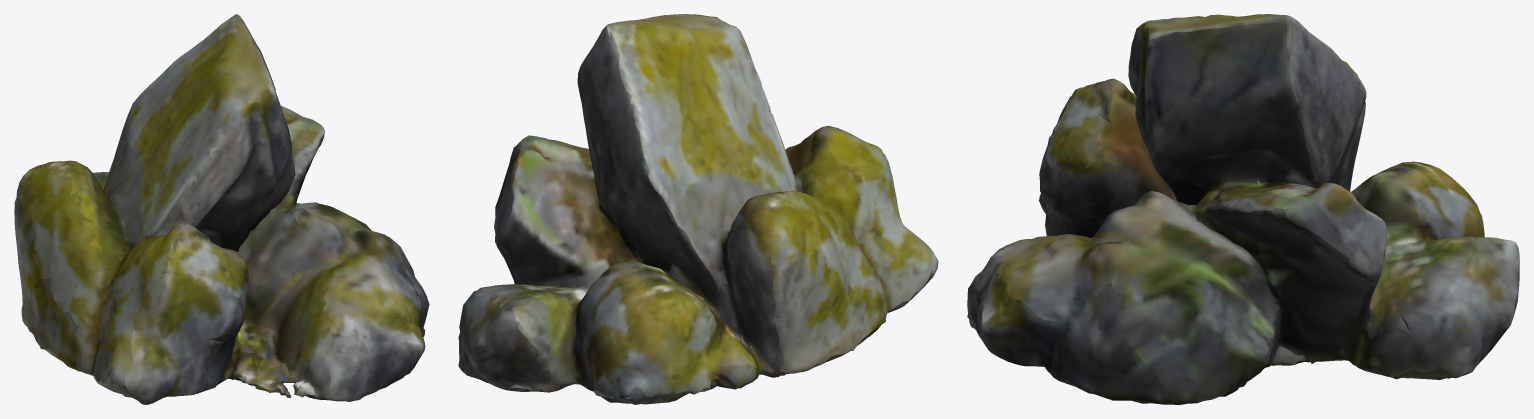
The model's file is F3D_09_LargeRock.fbx.
3 views of the same model, side by side, from view 1: azimuth 30°, elevation 25°; view 2: azimuth 150°, elevation 25°; view 3: azimuth 270°, elevation 25° (orthographic). The views are drawn at different scales.
Visible parts, largest first — view 1: F3D_09_LargeRock; view 2: F3D_09_LargeRock; view 3: F3D_09_LargeRock.
Part boxes in pixels (x1,y1,x2,y2): F3D_09_LargeRock: (14,14,429,404); F3D_09_LargeRock: (458,14,938,404); F3D_09_LargeRock: (967,14,1519,404).
Bounding box in the file's own units: 1.18 × 1 × 1.5.
